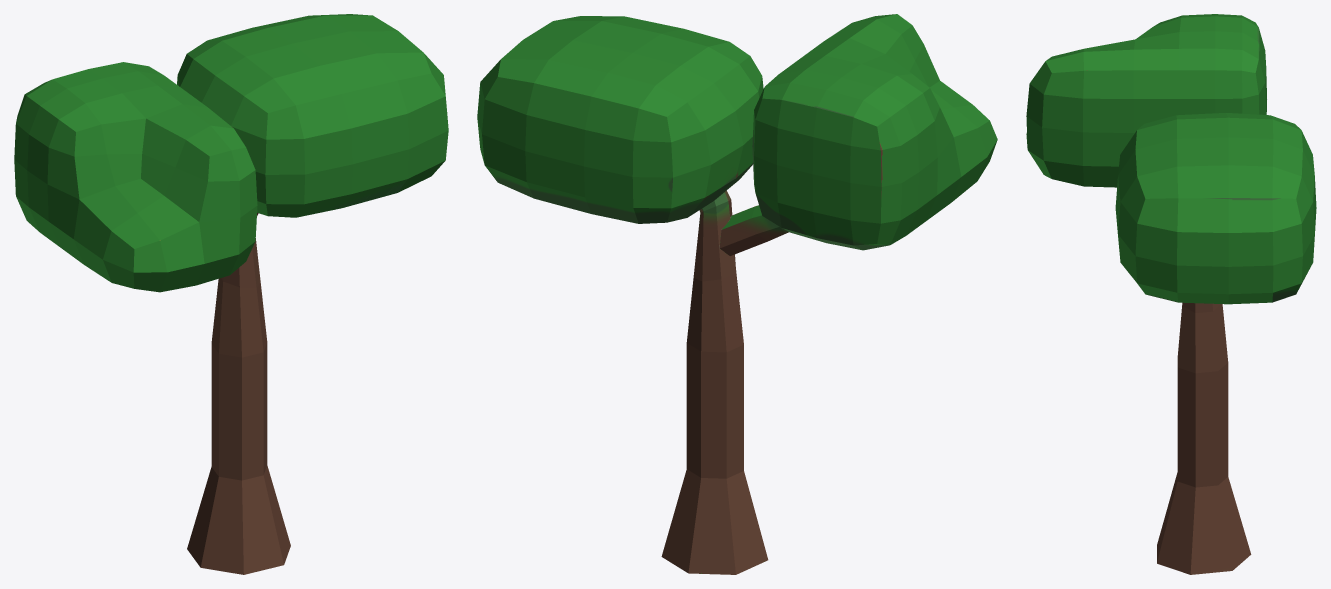
Rendered from tree1.glb.
The picture shows the model from 3 angles, left to right: view 1: azimuth 30°, elevation 25°; view 2: azimuth 150°, elevation 25°; view 3: azimuth 270°, elevation 25°; orthographic projection. The views are drawn at different scales.
Parts seen in each view (by area): view 1: Cylinder; view 2: Cylinder; view 3: Cylinder.
Boxes of the visible parts, x1=… form: Cylinder: x1=14, y1=14, x2=448, y2=574; Cylinder: x1=477, y1=14, x2=997, y2=574; Cylinder: x1=1026, y1=14, x2=1316, y2=574.
Size of the model in its own units: 10.57 by 12.58 by 7.12.
Materials: 1 (1 with a texture image).
